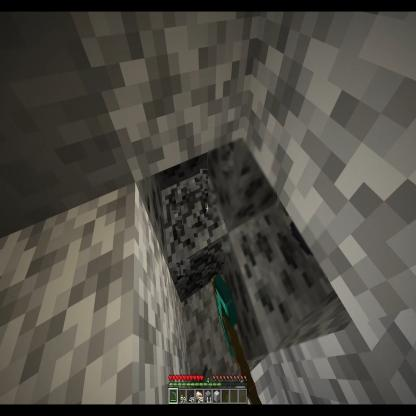coal ore: (225, 216, 328, 360), (165, 171, 226, 295), (208, 138, 277, 220), (146, 166, 167, 269)
